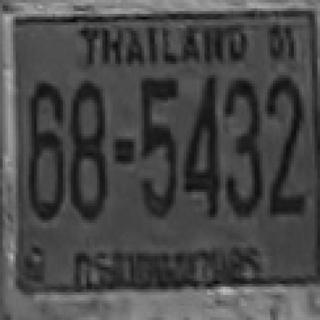N00: (30, 128, 67, 217), (72, 79, 106, 149)
N03: (223, 81, 260, 214), (223, 103, 260, 214)
N04: (181, 75, 218, 214), (181, 88, 218, 216)
P04: (63, 245, 271, 288)
